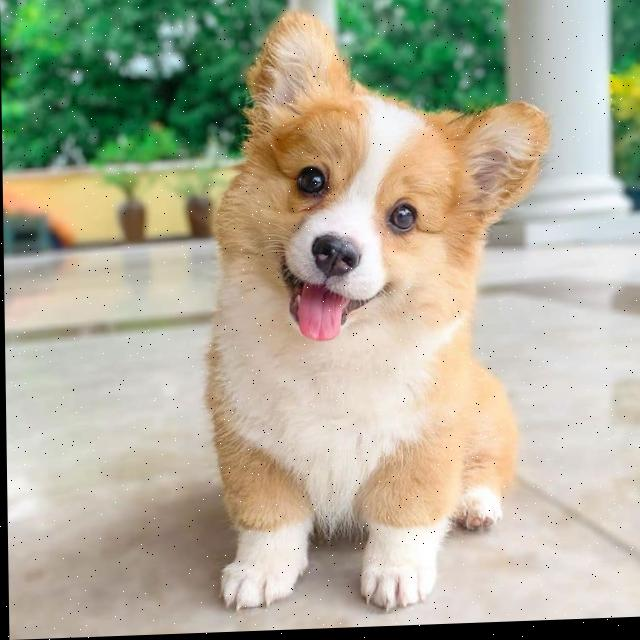CORGI: (158, 14, 545, 616)
